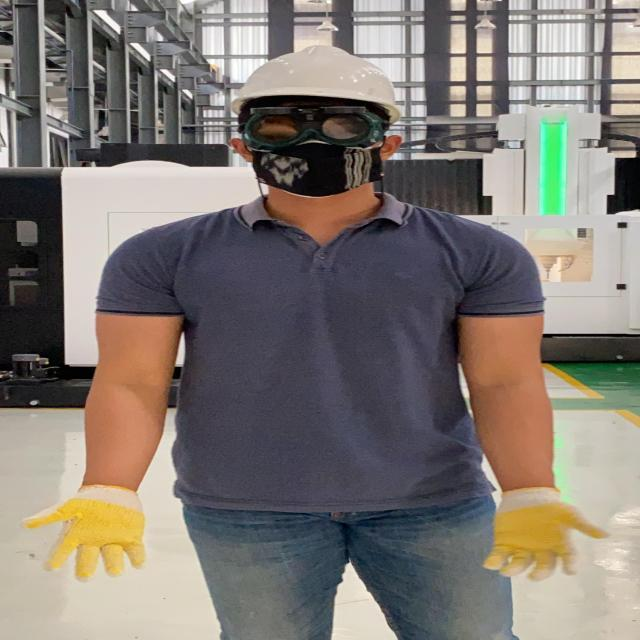glasses: (235, 100, 399, 150)
